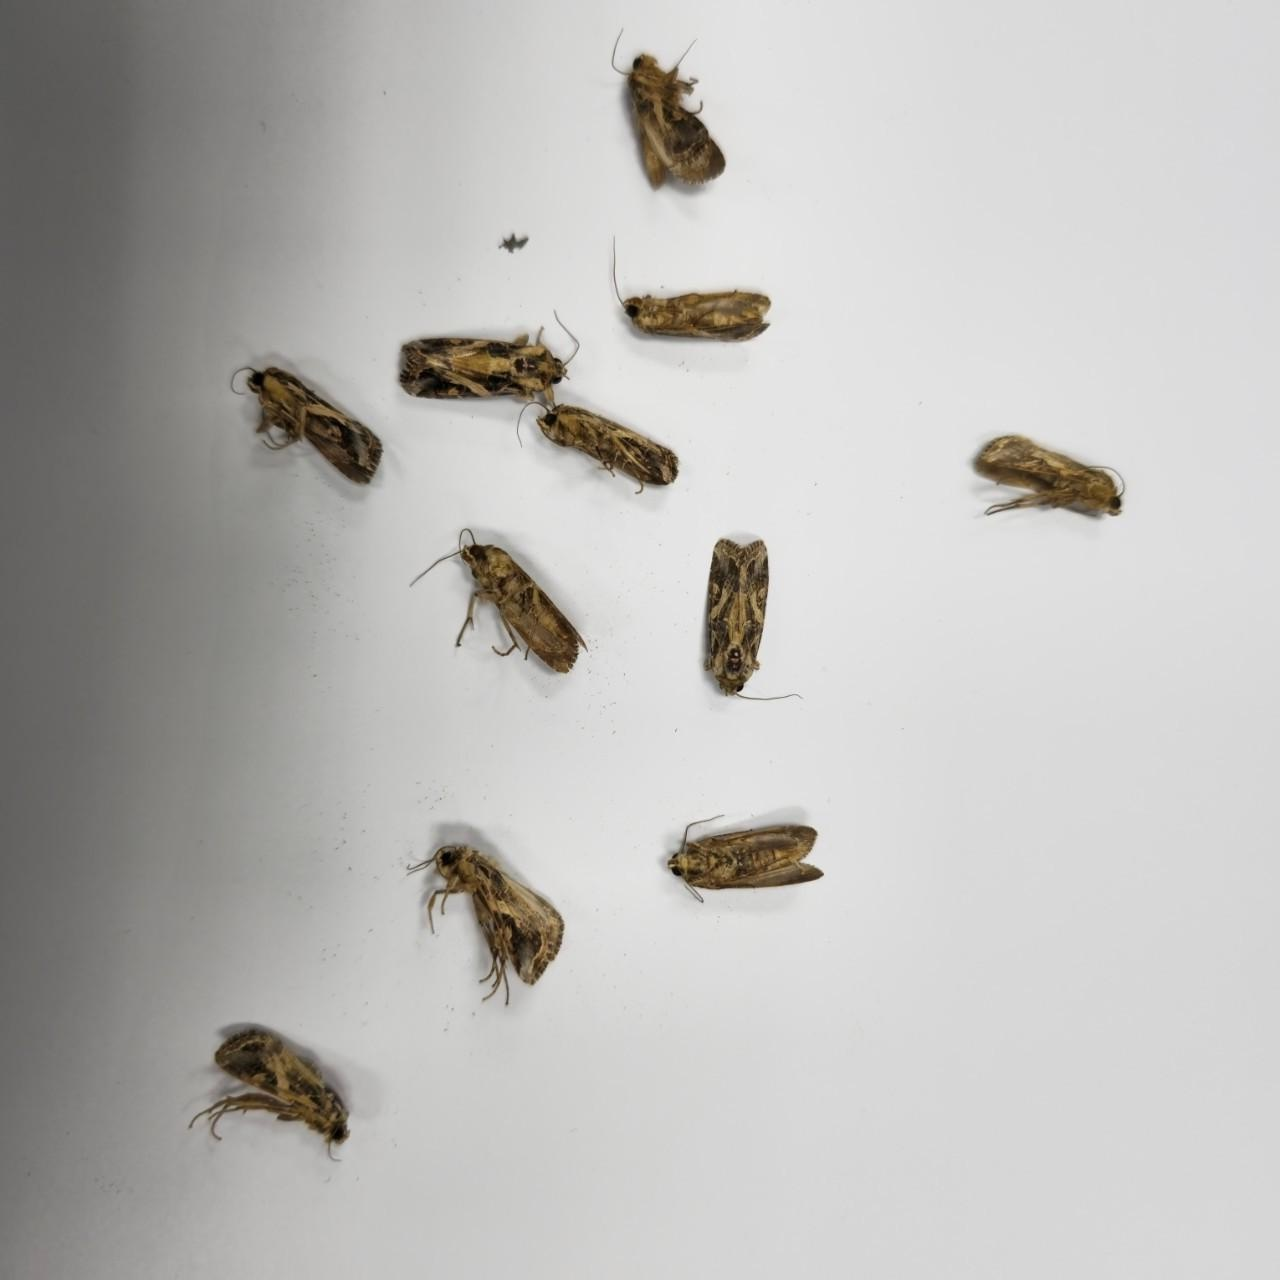Spodoptera litura: (411, 526, 588, 672), (406, 845, 565, 1005), (188, 1030, 350, 1162), (611, 27, 727, 192), (230, 366, 383, 486), (397, 309, 580, 406), (613, 236, 772, 341), (704, 538, 803, 701), (516, 401, 679, 495), (667, 813, 825, 904), (974, 436, 1126, 516)
